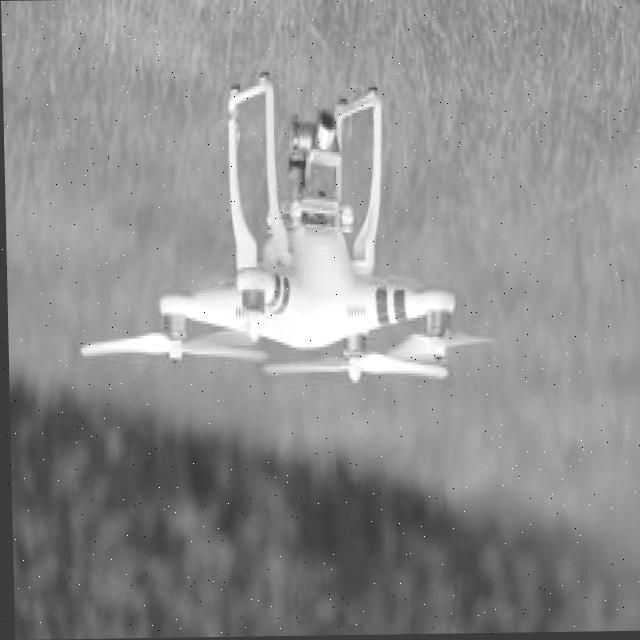drone: (100, 145, 522, 416)
